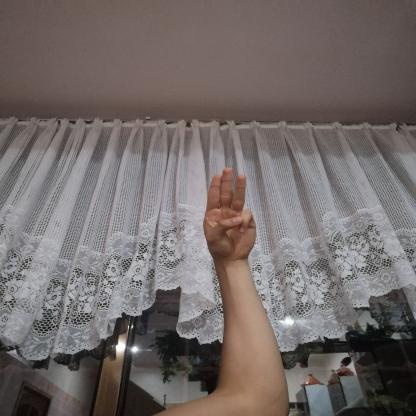THA: (192, 160, 266, 263)
